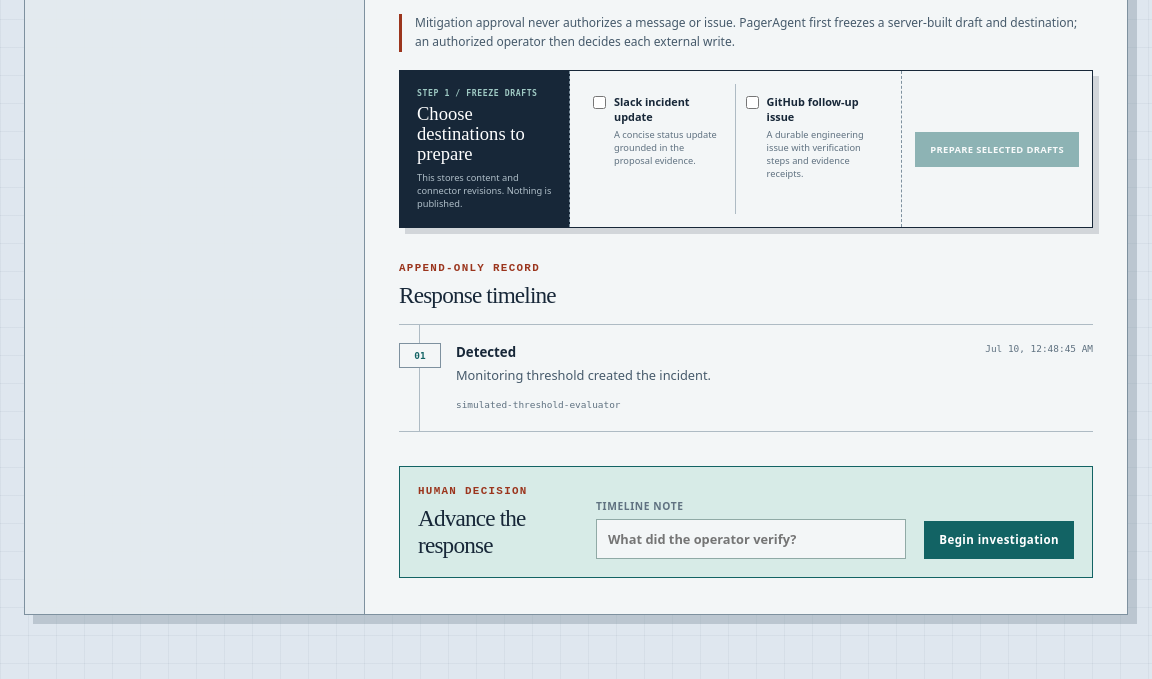
Test: records an operator lifecycle transition
(page scrolled)
Type "Confirmed the failure cohort." into the field labelled "Timeline note" at (751, 539), box [596, 519, 906, 559]
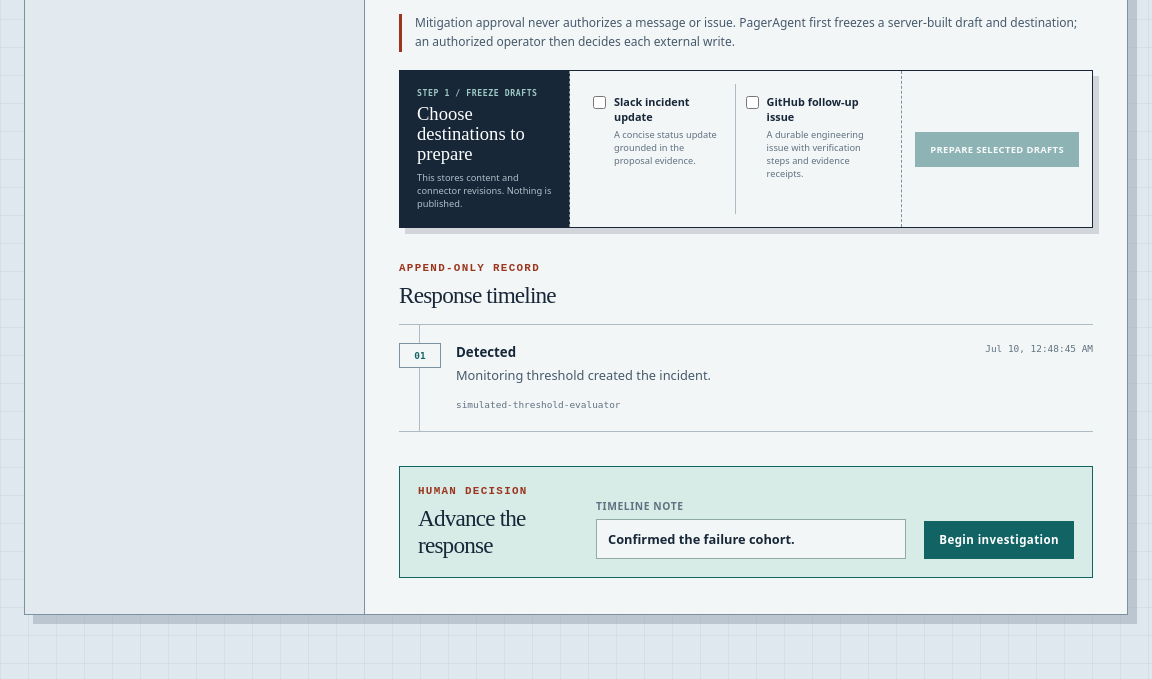
Click the button "Begin investigation" at (999, 540), box [924, 521, 1074, 559]
(page scrolled)
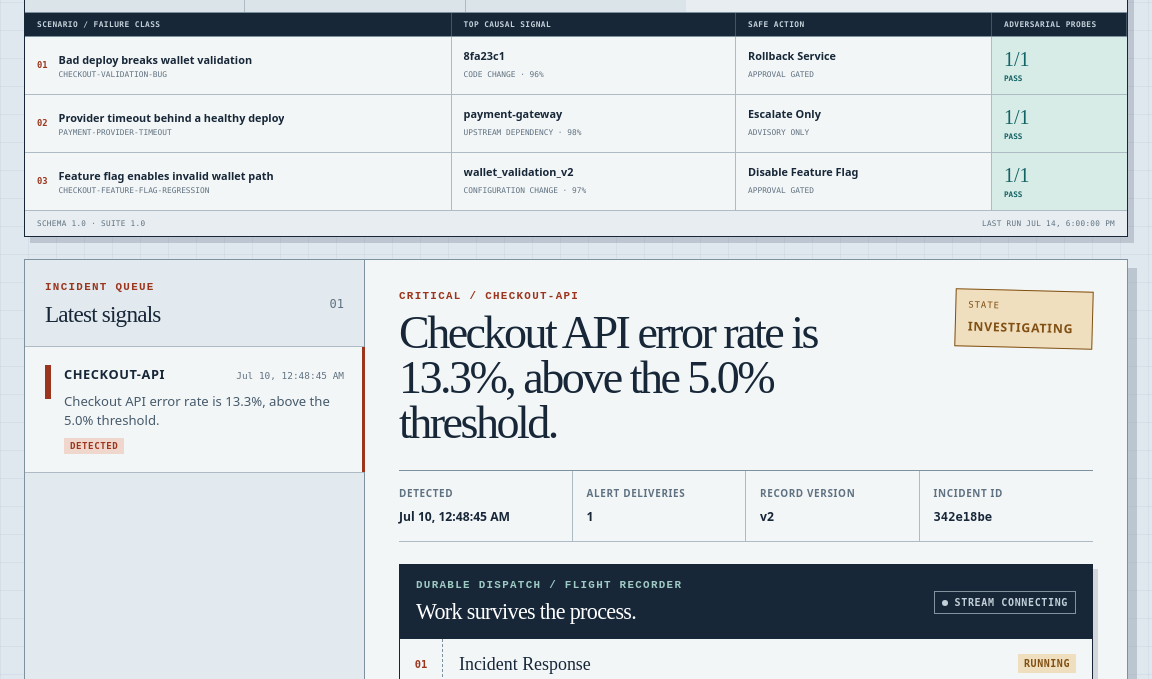
Now the text "Investigating" is shown, box [968, 318, 1073, 337]
